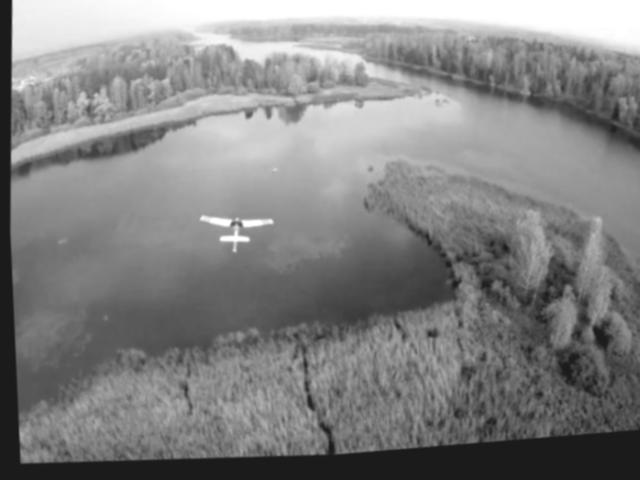hedef: (186, 203, 277, 269)
